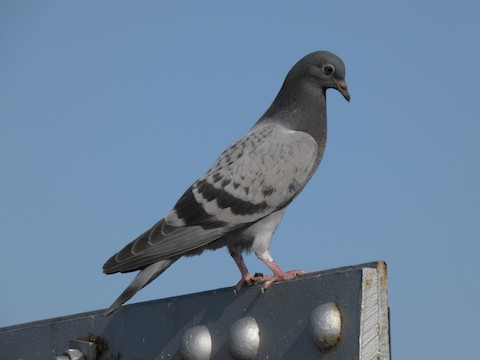pigeon: (97, 48, 354, 321)
